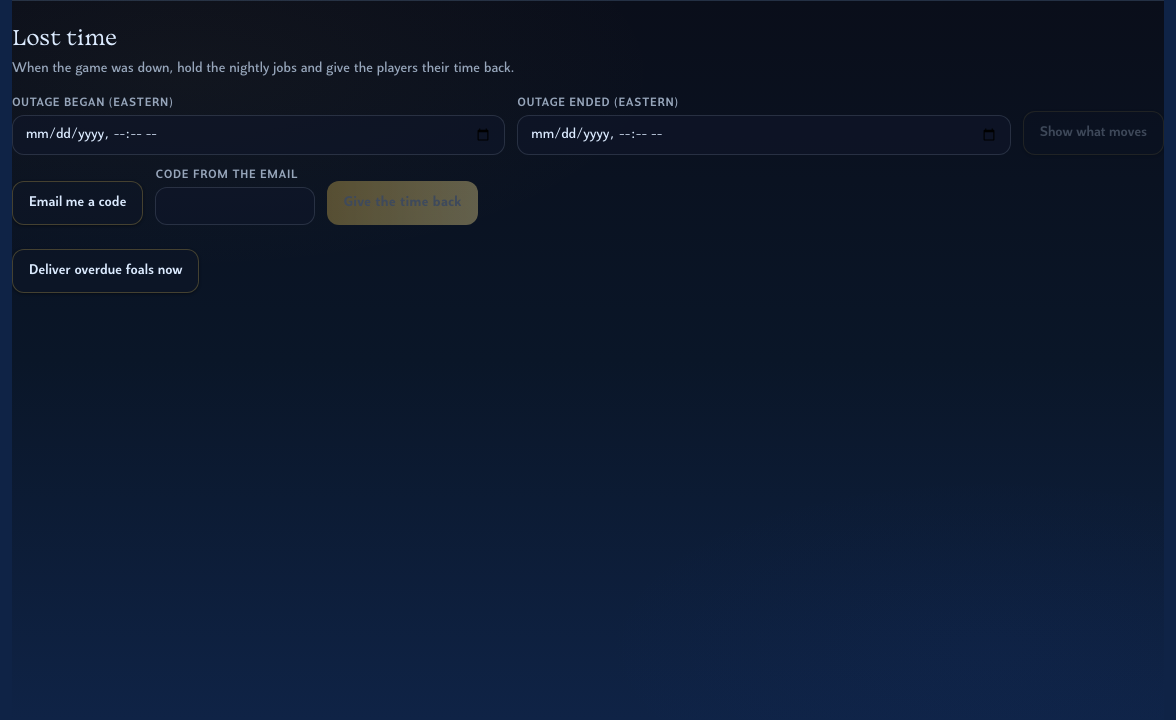
it: StaffOutage › says plainly which career years cannot be given back, on the preview and the entry
The width and height of the screenshot is (1176, 720).
Step 1. Type "2026-11-15T09:00" into the field labelled "Outage began (Eastern)" → (259, 135), box [12,115,505,155]
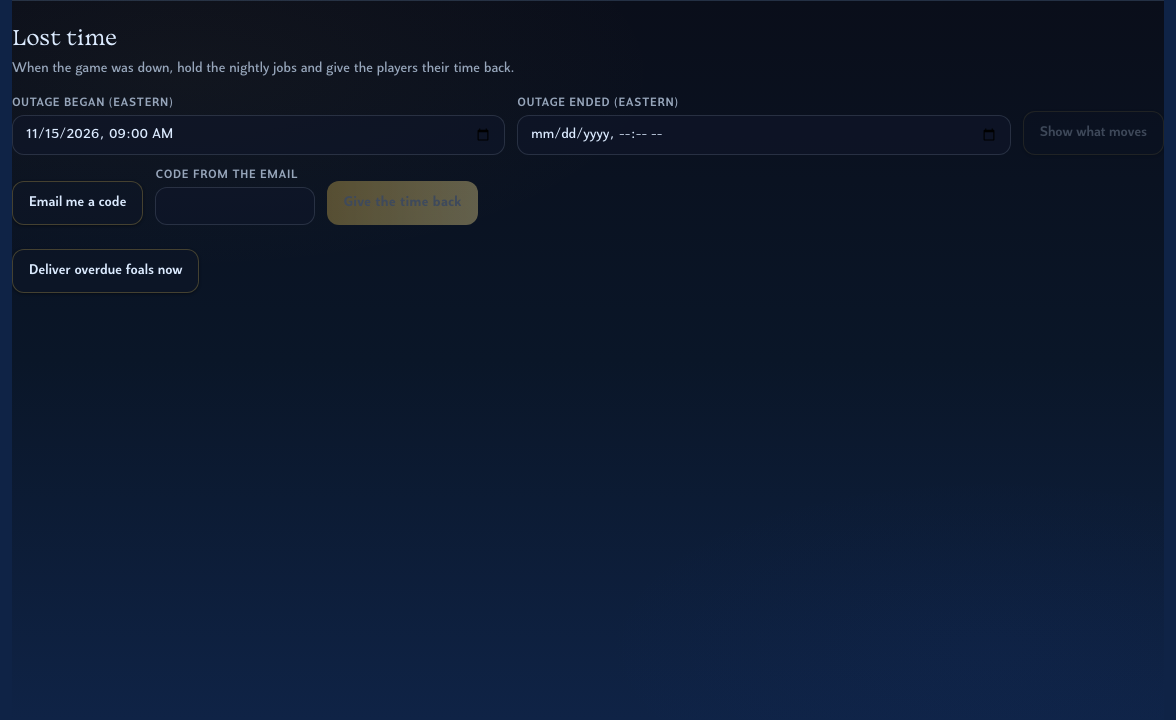
Step 2. Type "2026-11-17T09:00" into the field labelled "Outage ended (Eastern)" → (764, 135), box [517,115,1011,155]
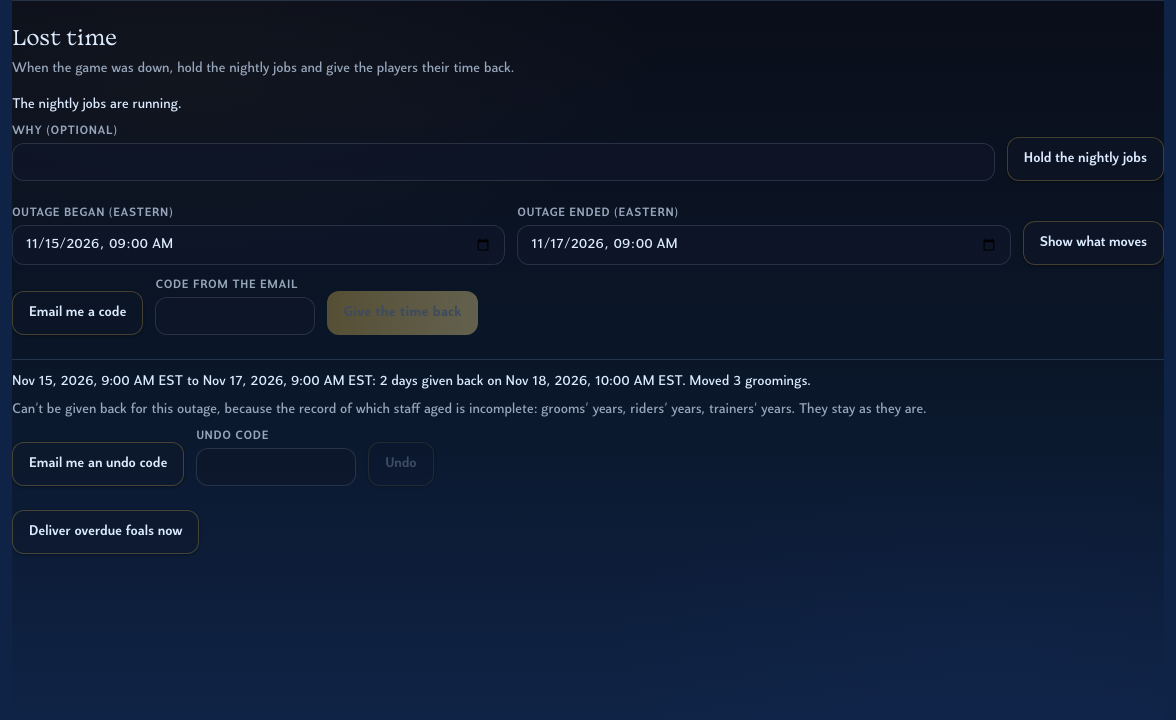
Step 3. Click the button "Show what moves" → (1093, 243), box [1023,221,1164,265]
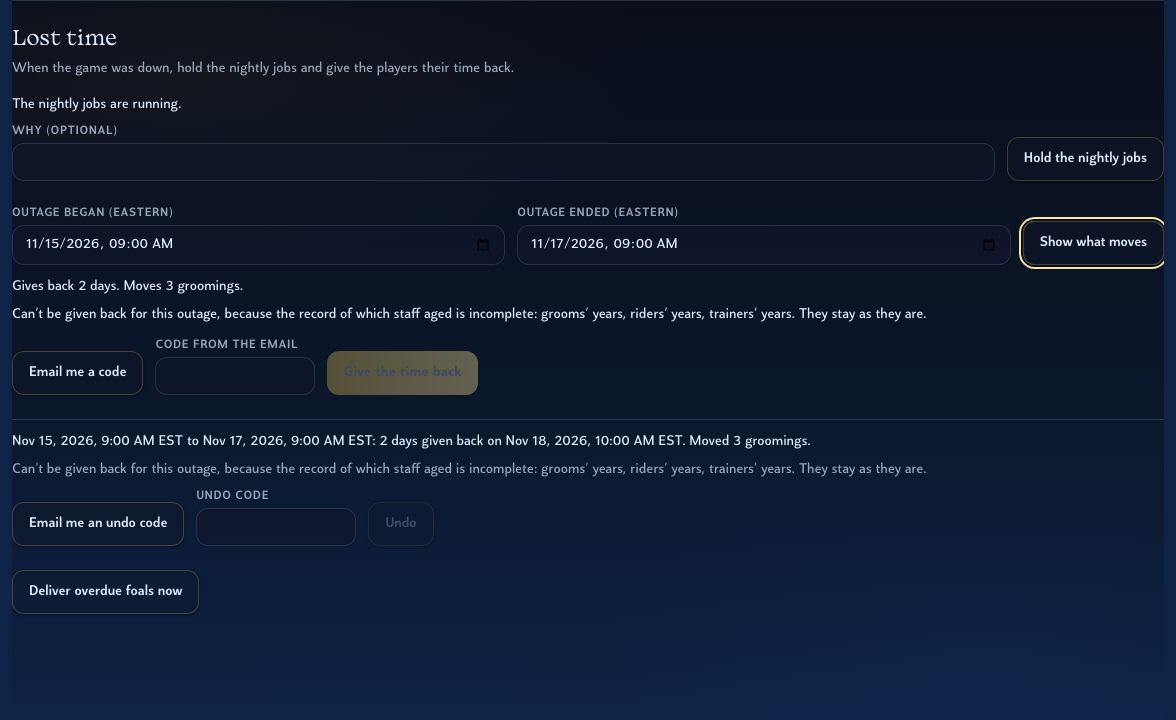
Now the text "Can't be given back for this outage, because the record of which staff aged is incomplete: grooms’ years, riders’ years," below "Gives back" is shown, box [12,307,926,322]
Now the text "Can't be given back for this outage, because the record of which staff aged is incomplete: grooms’ years, riders’ years," is shown 2 times, box [12,307,926,322]; [12,462,926,477]
